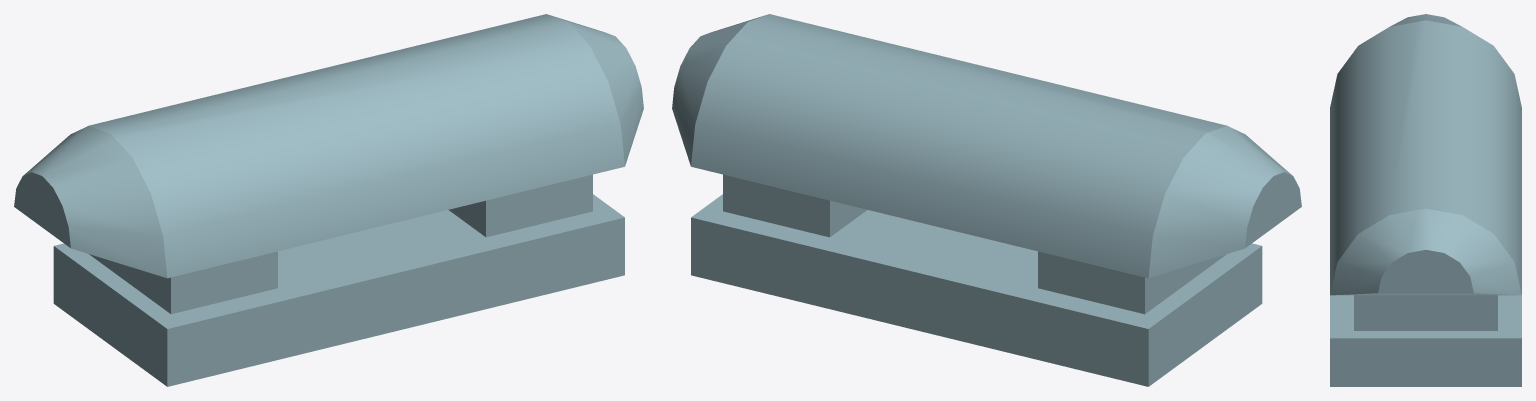
File: StationBalloon.fbx
3 views of the same model, side by side, from view 1: azimuth 30°, elevation 25°; view 2: azimuth 150°, elevation 25°; view 3: azimuth 270°, elevation 25° (orthographic). The views are drawn at different scales.
Visible parts, largest first — view 1: Model; view 2: Model; view 3: Model.
Part boxes in pixels (x1=…): Model: x1=14, y1=14, x2=643, y2=386; Model: x1=672, y1=14, x2=1301, y2=386; Model: x1=1330, y1=14, x2=1521, y2=386.
Size of the model in its own units: 92.31 by 32.57 by 31.72.
